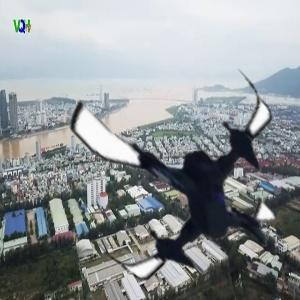drone: (58, 50, 300, 292)
